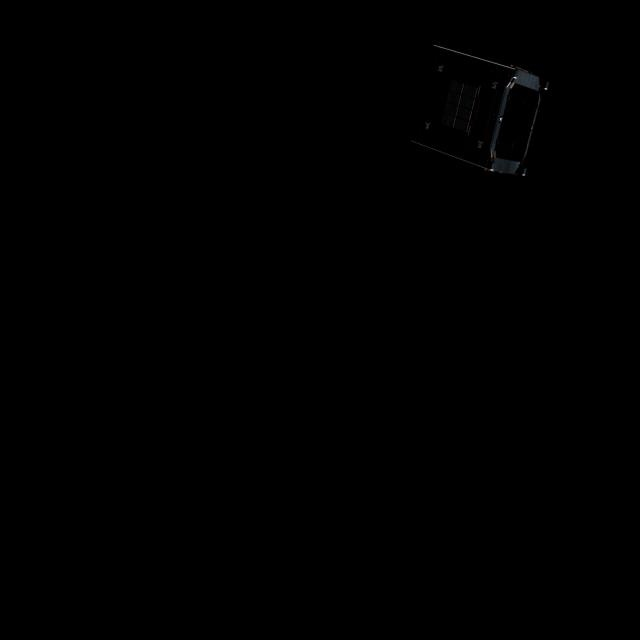satellite: (406, 45, 550, 179)
